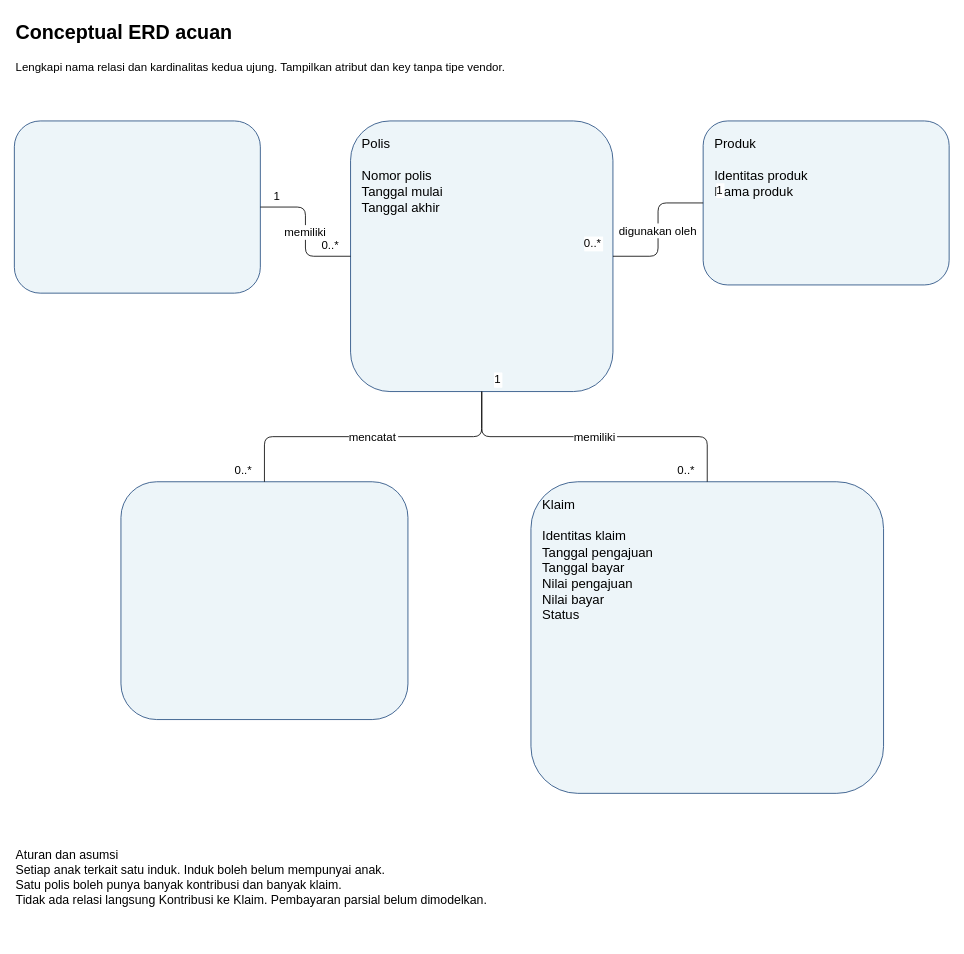
Image size: 964x954. Some labels were removed from this diagram. Here are the shapes that lost their labels. From the top down, the centre of each, then its label:
the point at 137,206: Peserta Identitas peserta Nama Kota
the point at 264,600: Kontribusi Identitas transaksi Tanggal kontribusi Jumlah Status
